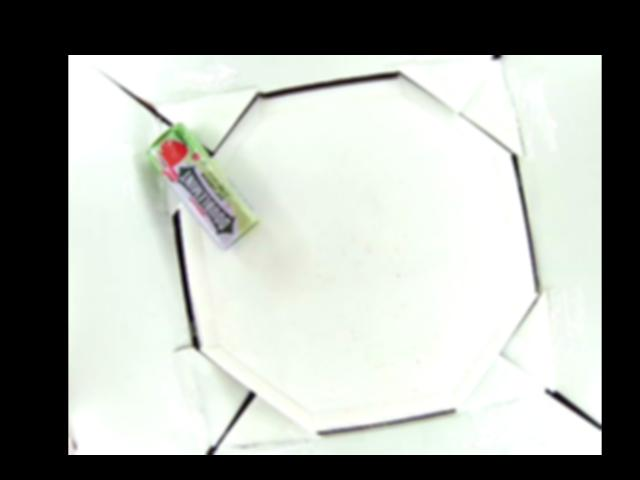Bottle: (145, 125, 258, 252)
